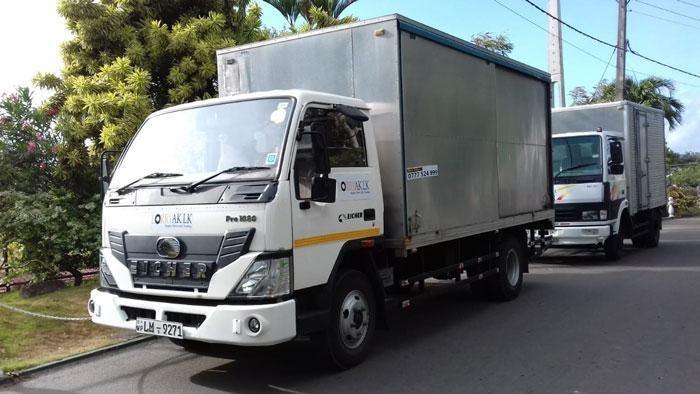truck: (86, 13, 555, 368), (550, 99, 668, 257)
